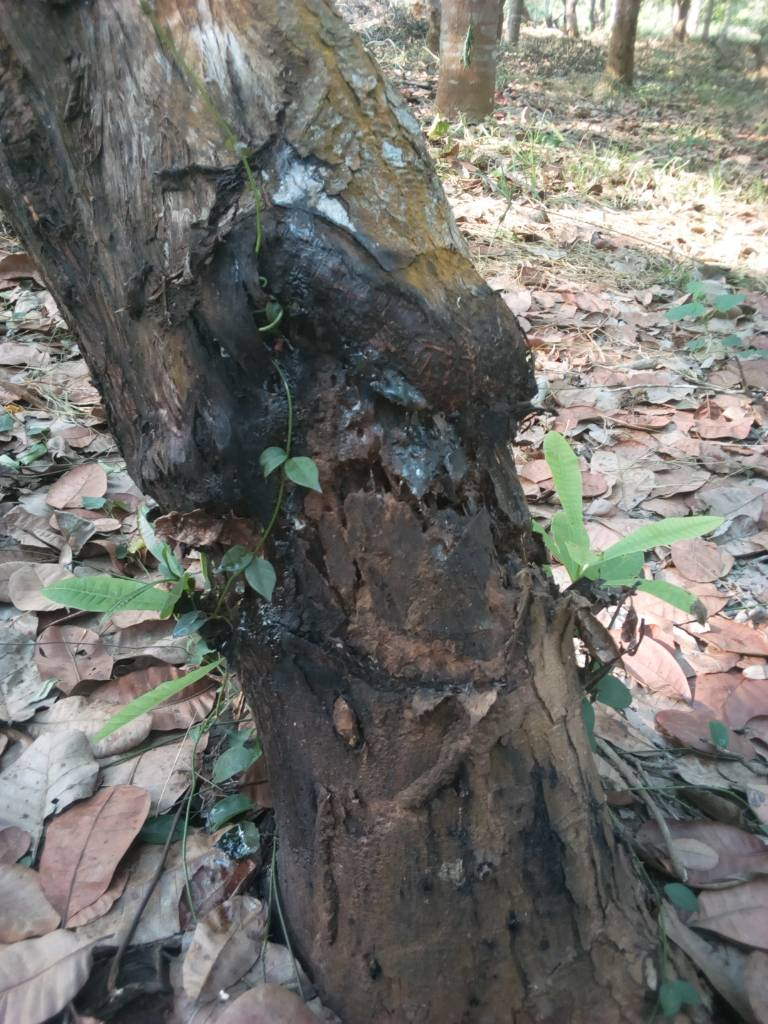ploceadorus ferrugineus: (206, 220, 506, 688)
